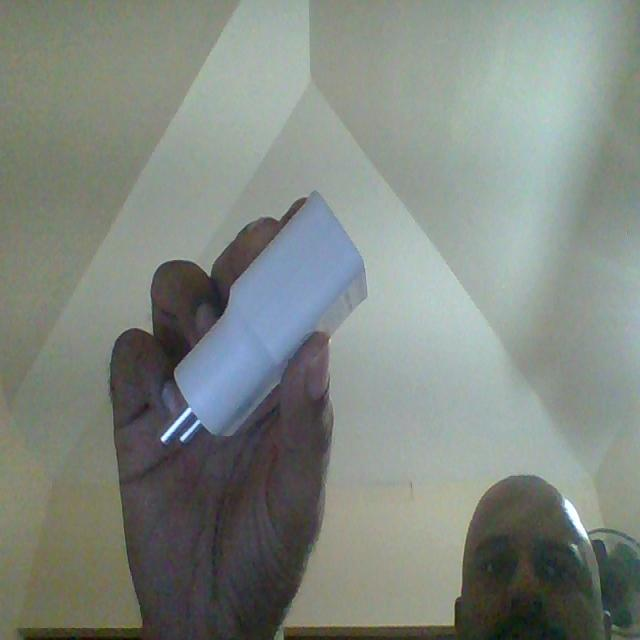charger: (156, 187, 371, 444)
